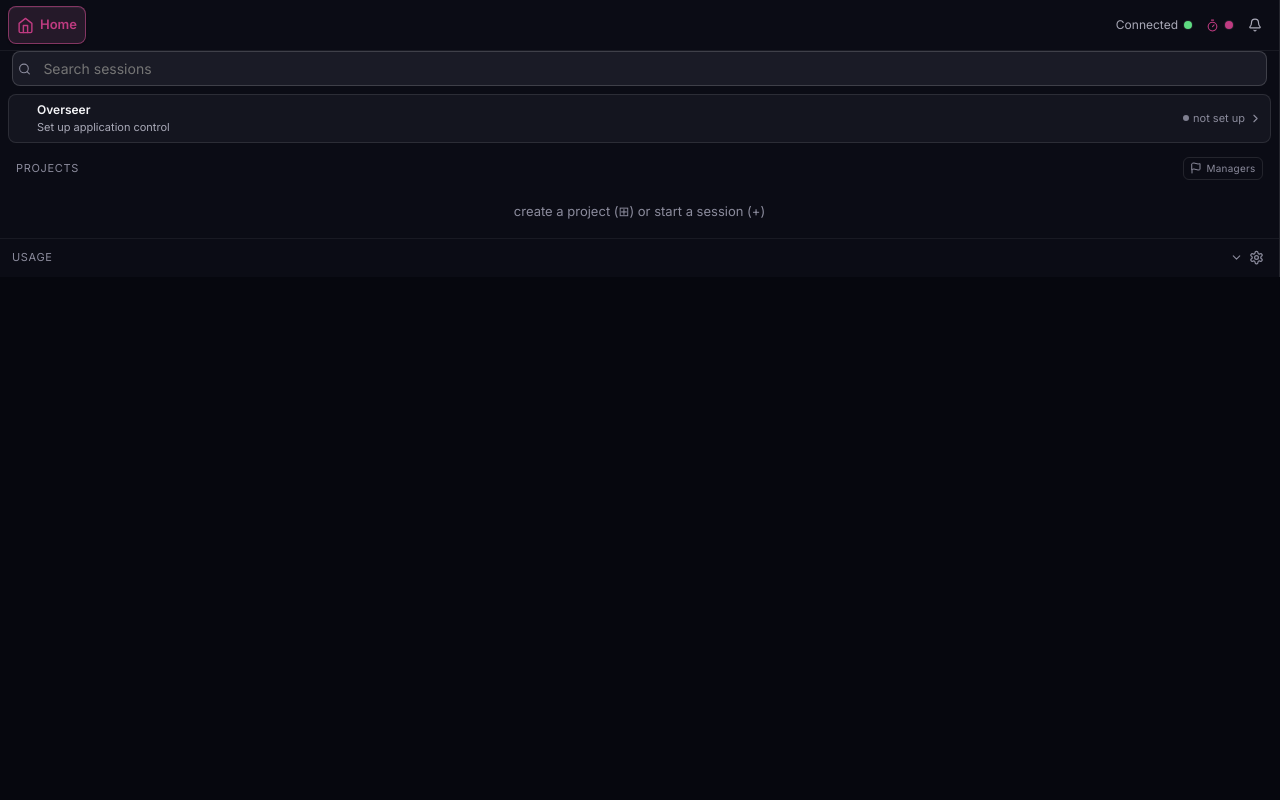
it: compact system status indicators › shows journal lifecycle detail in an adjacent indicator instead of an always-open bar
Click the button named "Journal maintenance: working": (1219, 25) [1203, 11, 1235, 39]
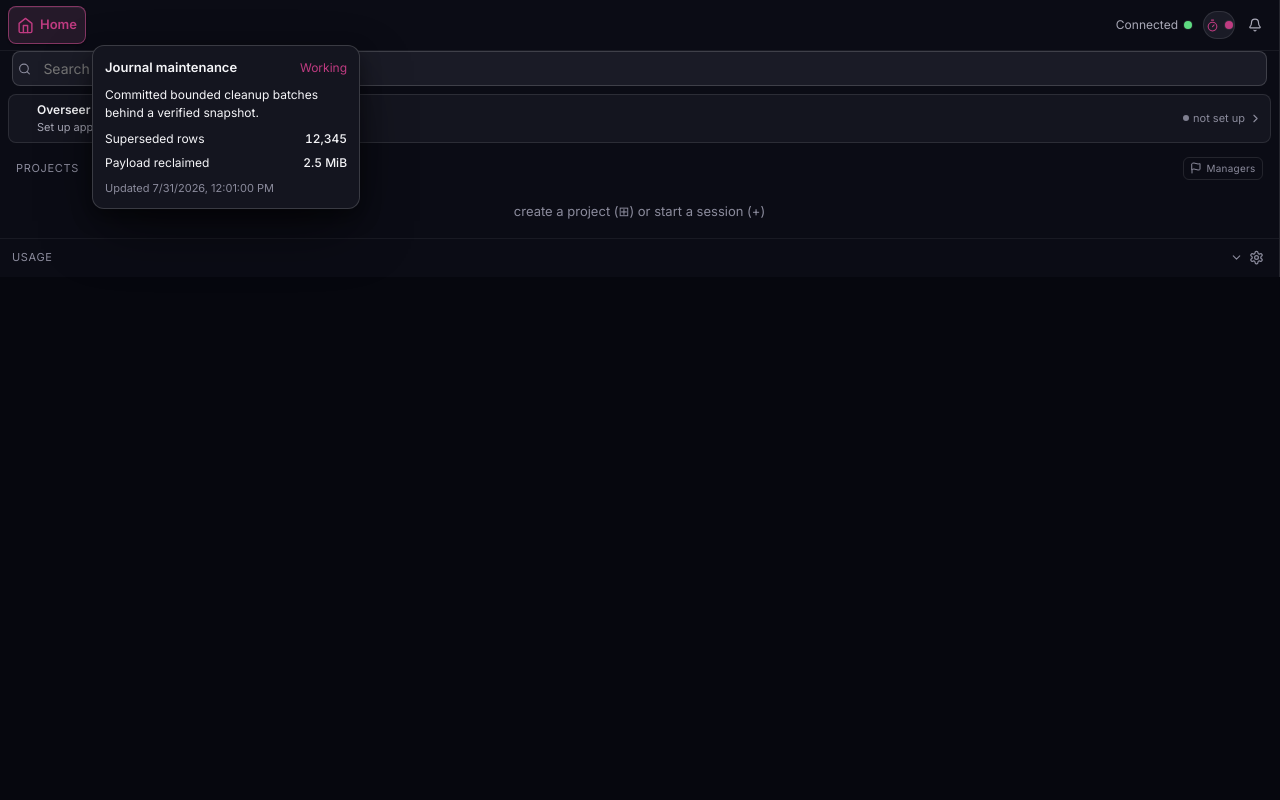
Result: the text "12,345" is shown at [305, 130, 347, 148]
Result: the text "2.5 MiB" is shown at [303, 154, 347, 172]
Result: the dialog "Journal maintenance" shows "Committed bounded cleanup batches" at [105, 86, 318, 120]
Press the mouse on the element that starts with "Home": (640, 400) [0, 0, 1279, 799]
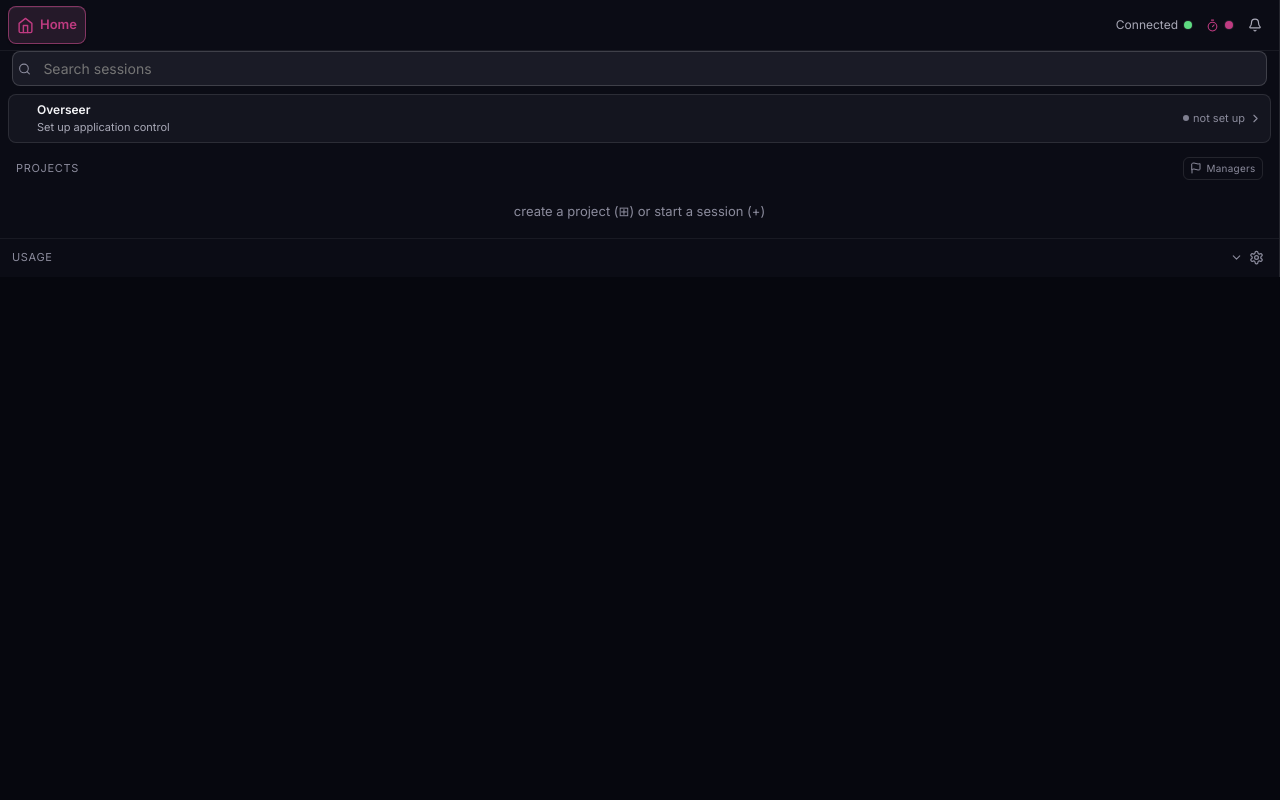
Result: the text "Journal maintenance" is gone
